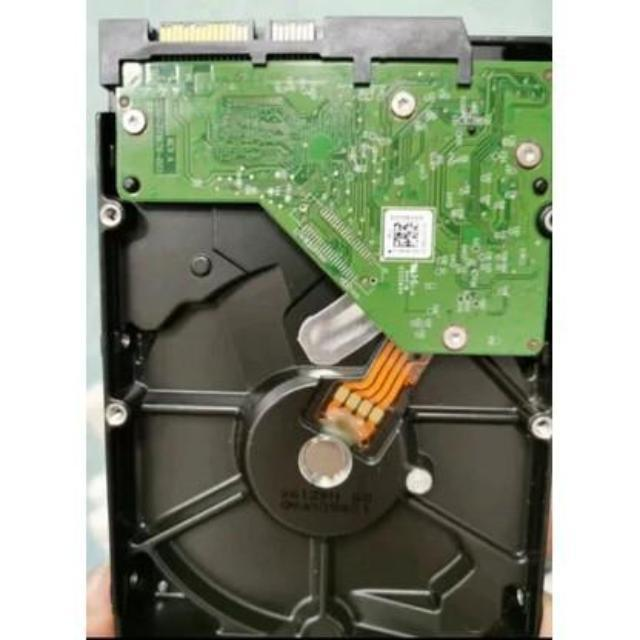DISK: (89, 9, 557, 640)
